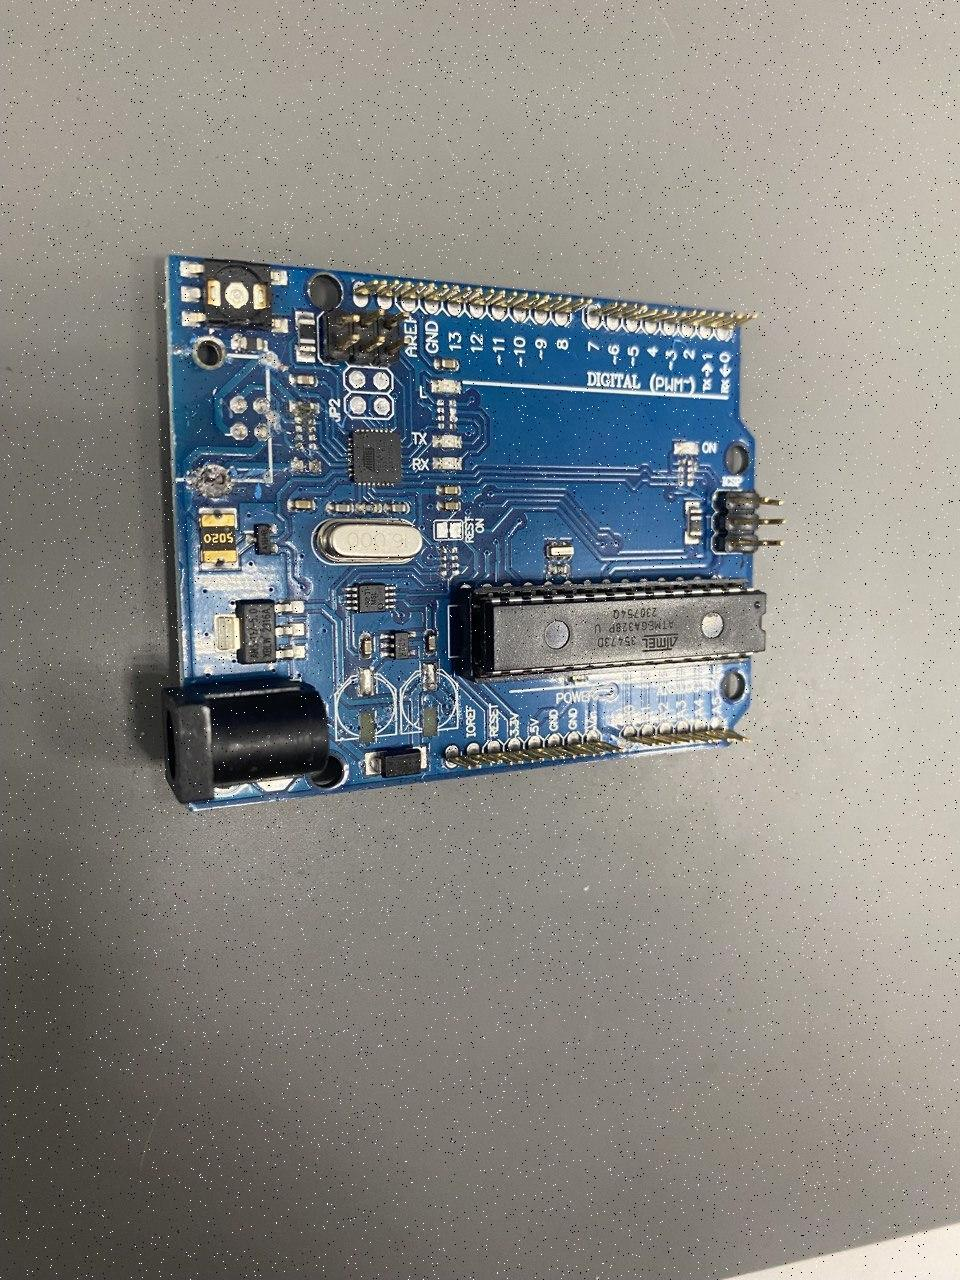ATmega328 chip: (458, 578, 767, 683)
Arduino board: (161, 254, 787, 810)
